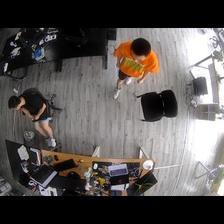normal: (7, 87, 59, 148), (110, 37, 156, 94)
